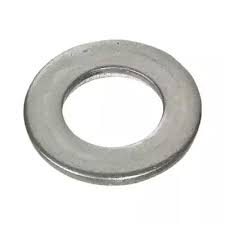No thread: (61, 62, 167, 149)
